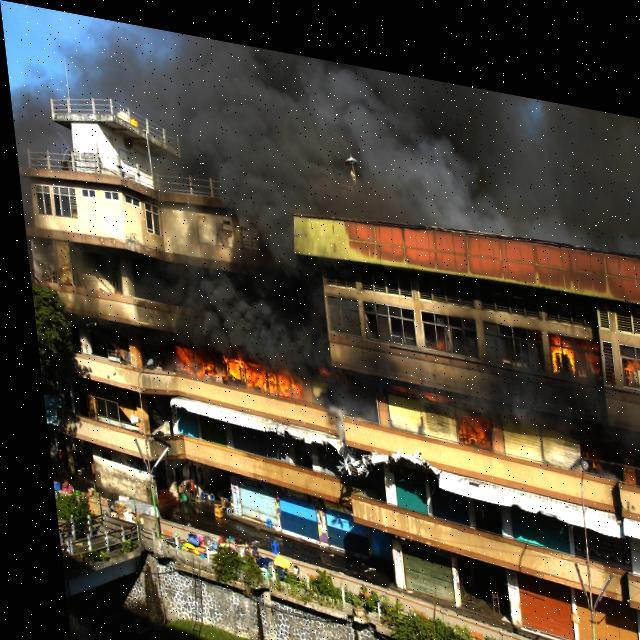Fire: (162, 328, 308, 397), (540, 312, 600, 358), (444, 384, 490, 436), (380, 366, 446, 390), (614, 322, 639, 368), (574, 410, 604, 447)
